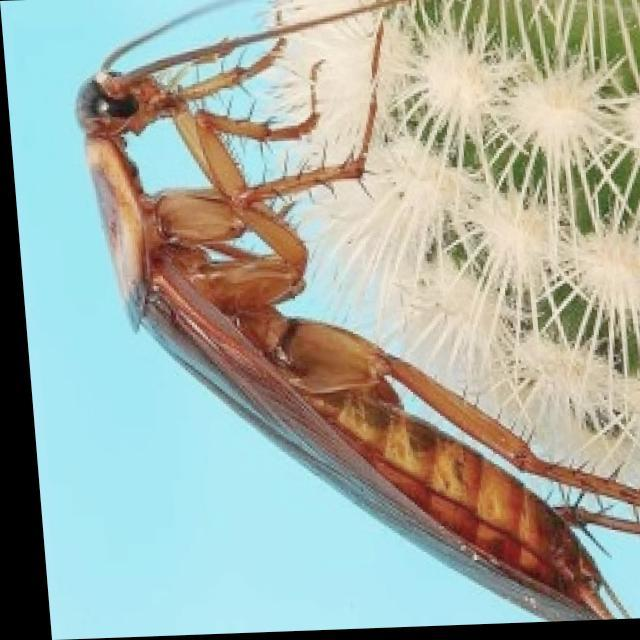cockroach: (72, 0, 639, 622)
